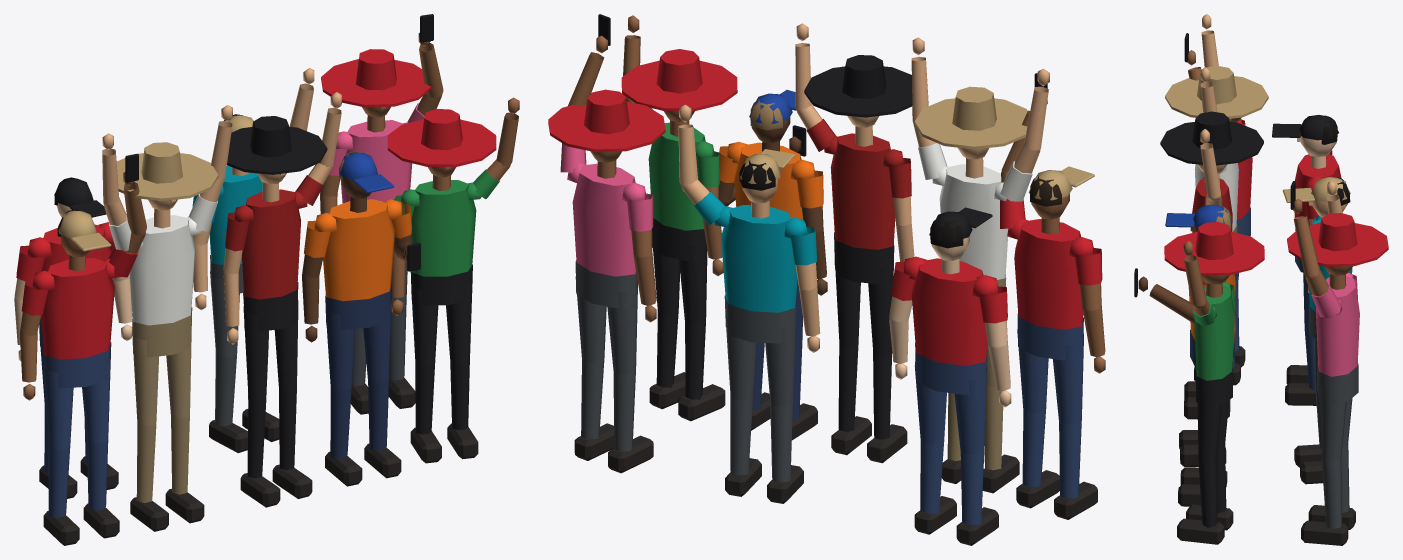
The model's file is crowd_g.dae.
3 views of the same model, side by side, from view 1: azimuth 30°, elevation 25°; view 2: azimuth 150°, elevation 25°; view 3: azimuth 270°, elevation 25° (orthographic). The views are drawn at different scales.
Parts seen in each view (by area): view 1: marker; view 2: marker; view 3: marker.
Boxes of the visible parts, <box> form: marker: <box>14,14,519,545</box>; marker: <box>548,14,1105,545</box>; marker: <box>1134,14,1388,545</box>.
Bounding box in the file's own units: 2.62 × 1.33 × 2.12.
1 material, 1 textured.
